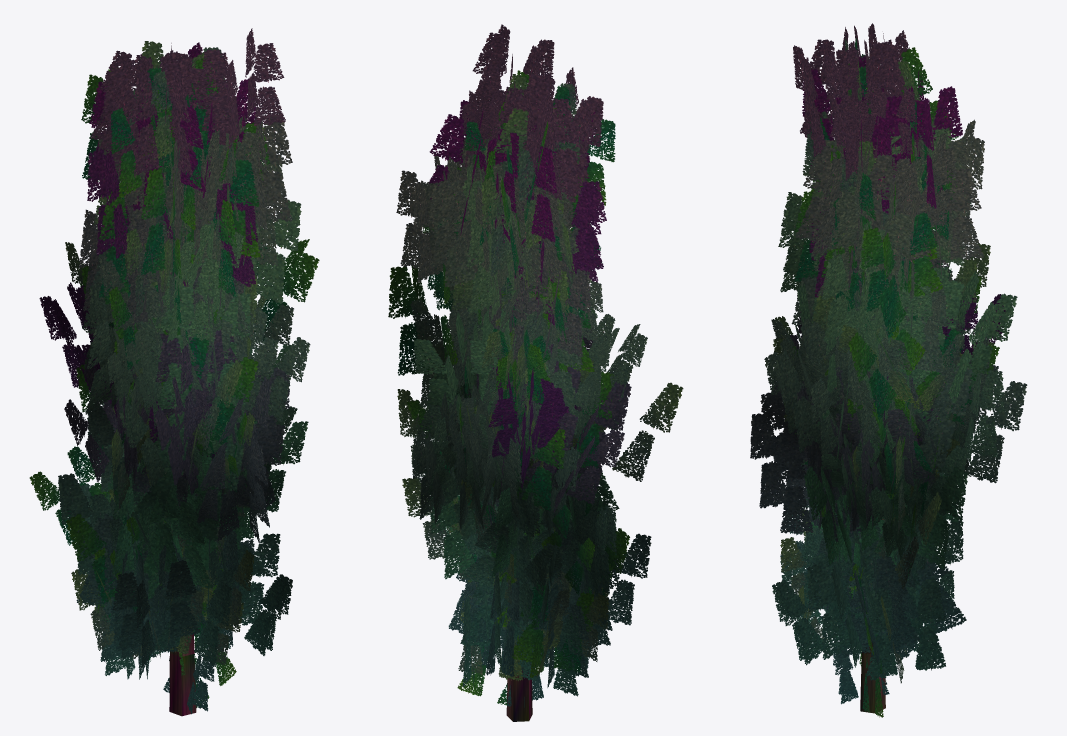
Rendered from nat_cypress_b_LOD1.glb.
The picture shows the model from 3 angles, left to right: view 1: azimuth 30°, elevation 25°; view 2: azimuth 150°, elevation 25°; view 3: azimuth 270°, elevation 25°; orthographic projection. The views are drawn at different scales.
Parts seen in each view (by area): view 1: nat_cypress_b_LOD1; view 2: nat_cypress_b_LOD1; view 3: nat_cypress_b_LOD1.
Part boxes in pixels (x1,y1,x2,y2): nat_cypress_b_LOD1: (29,28,319,716); nat_cypress_b_LOD1: (388,24,683,721); nat_cypress_b_LOD1: (750,23,1027,717).
Bounding box in the file's own units: 3.53 × 8.25 × 3.49.
2 materials, 2 textured.
